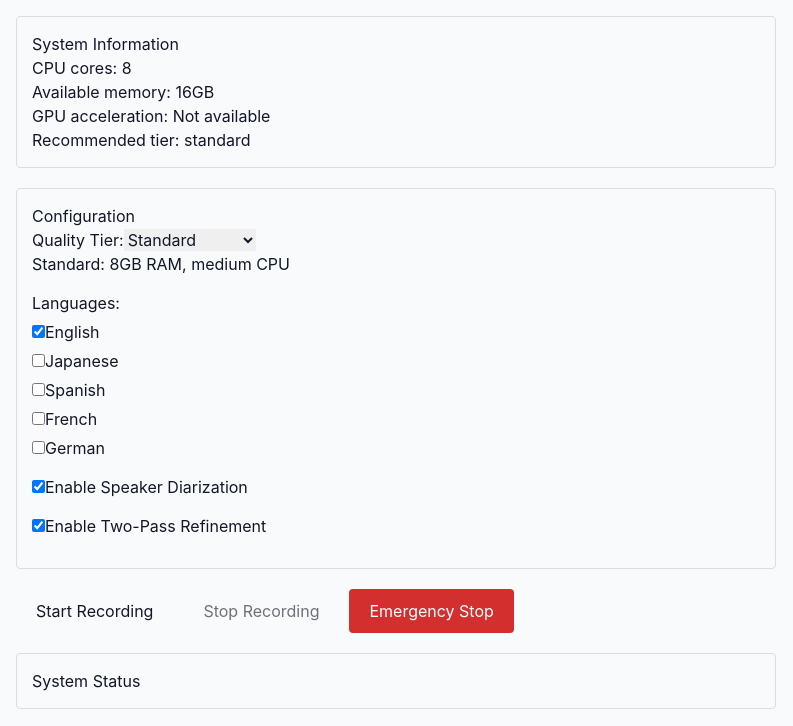
it: TranscriptionController Component › Configuration Management › should allow quality tier changes when not recording
// Change quality tier
Select "High Accuracy" in the dropdown with test id "quality-tier-selector" at (190, 240), box [124,229,256,251]
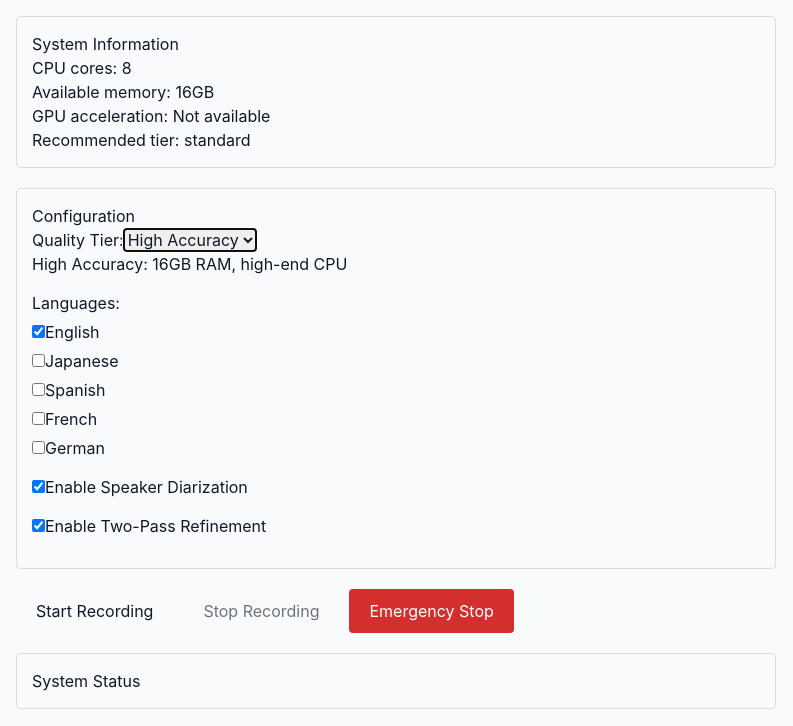
Check: the text with test id "estimated-requirements" reads "High Accuracy: 16GB RAM, high-end CPU", box [32,254,347,274]
